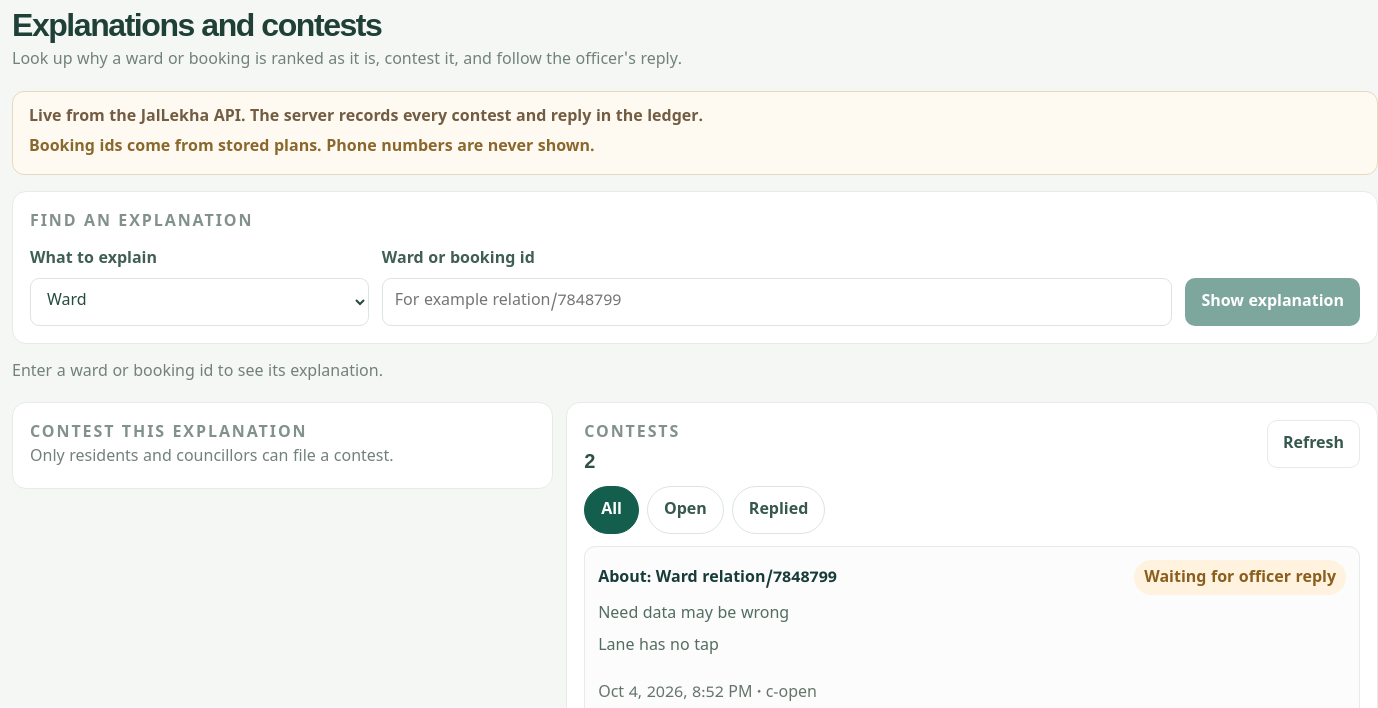
Test case: ExplainExperience (live) › lets the officer list, filter, open and reply with a required reason
Click the button "Open": (685, 510) [647, 486, 724, 534]
(page scrolled)
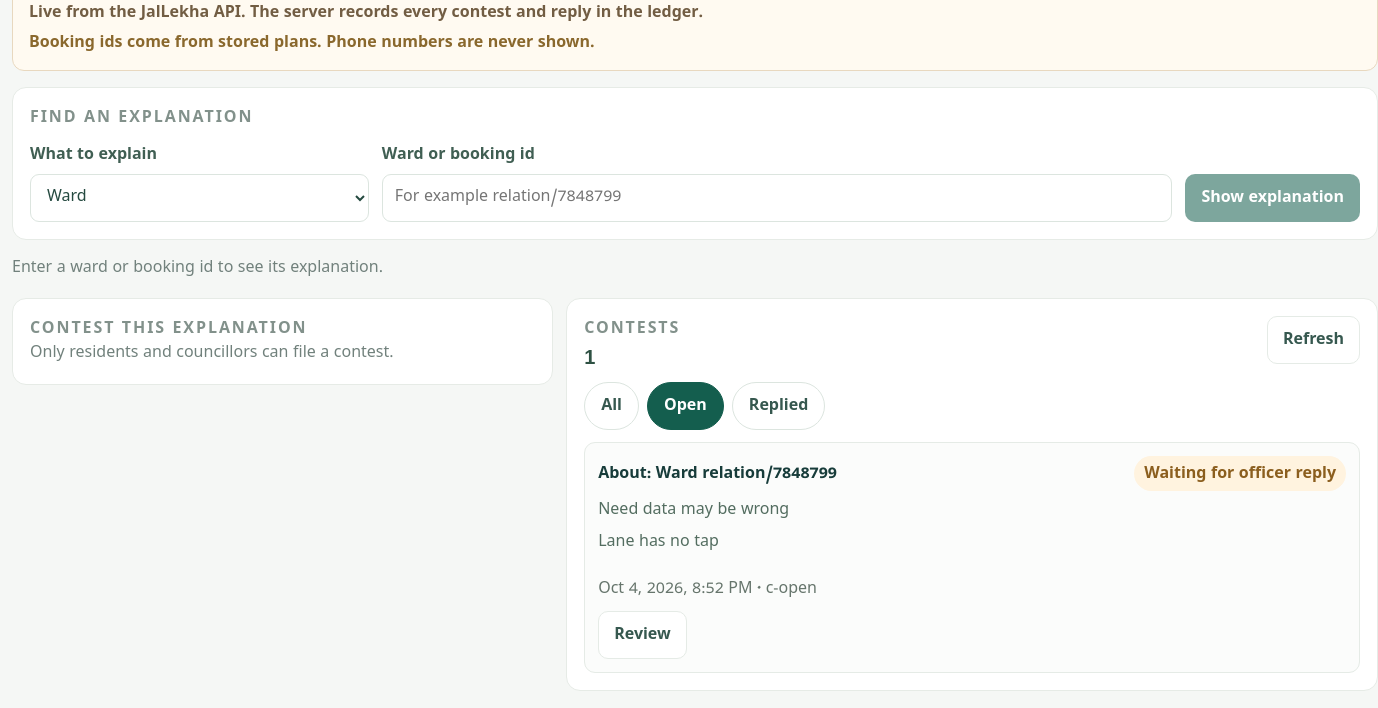
Expected: the list named "Contests" shows "Lane has no tap", [598, 532, 719, 554]
Result: the number of list items is 1 at [584, 442, 1360, 673]
Click the button with aria-label "Review c-open": (642, 635) [598, 611, 687, 659]
(page scrolled)
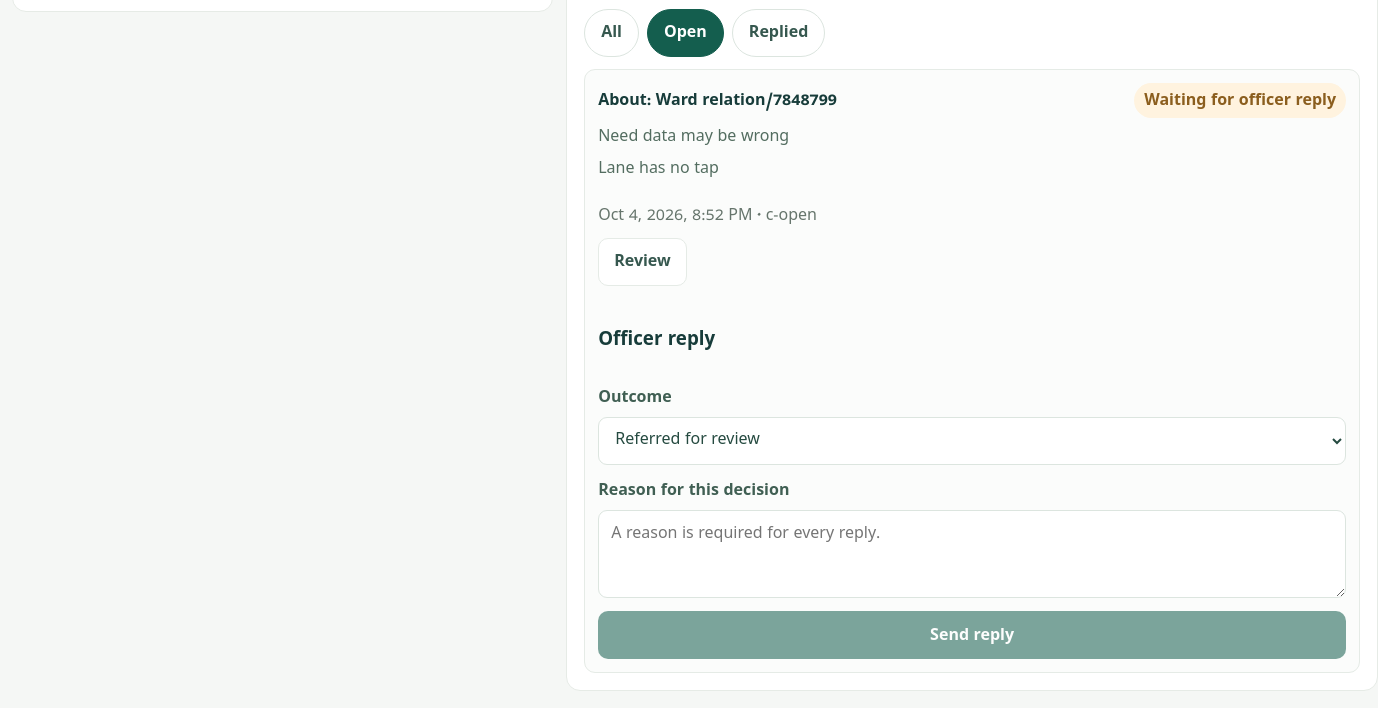
Result: the button "Send reply" is disabled at [598, 611, 1346, 659]
Select "Ranking stands" in the dropdown labelled "Outcome": (972, 441) [598, 417, 1346, 465]
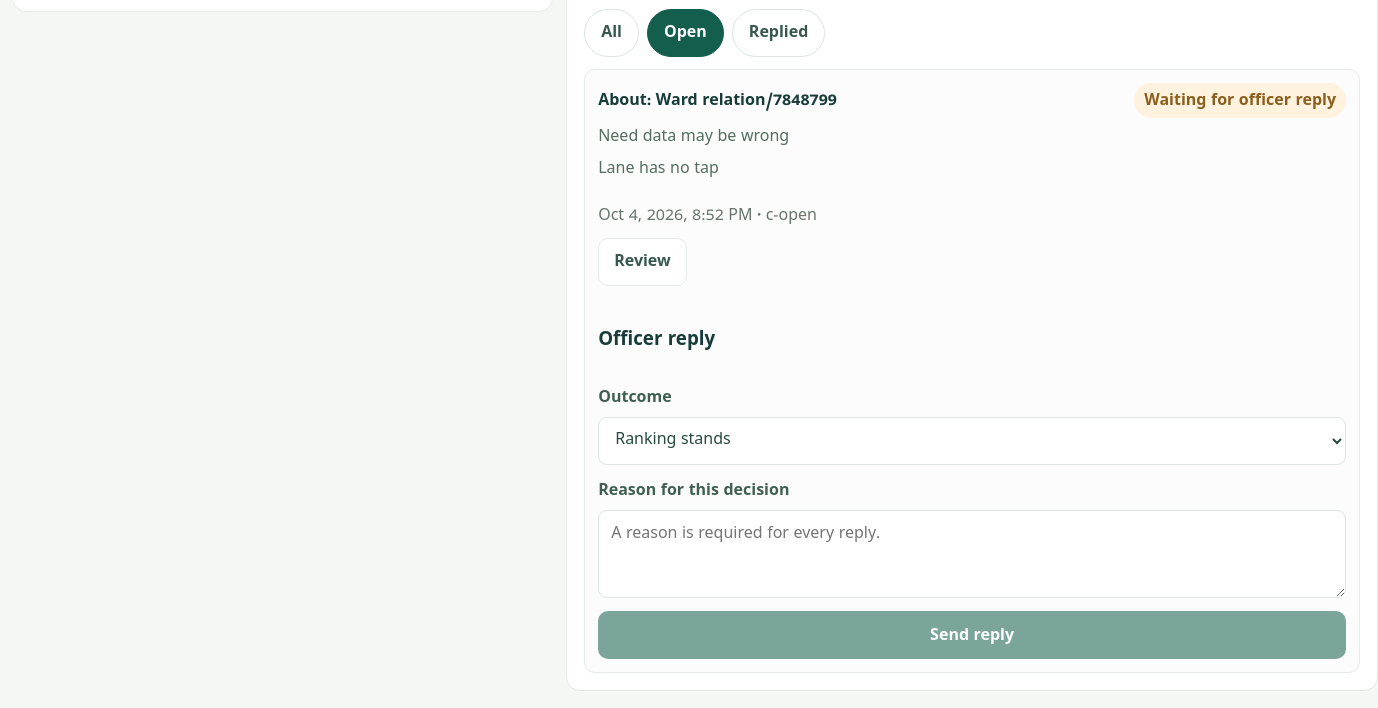
In the text box labelled "Reason for this decision": (972, 554) [598, 510, 1346, 598], type "Census figures checked; ranking is right."
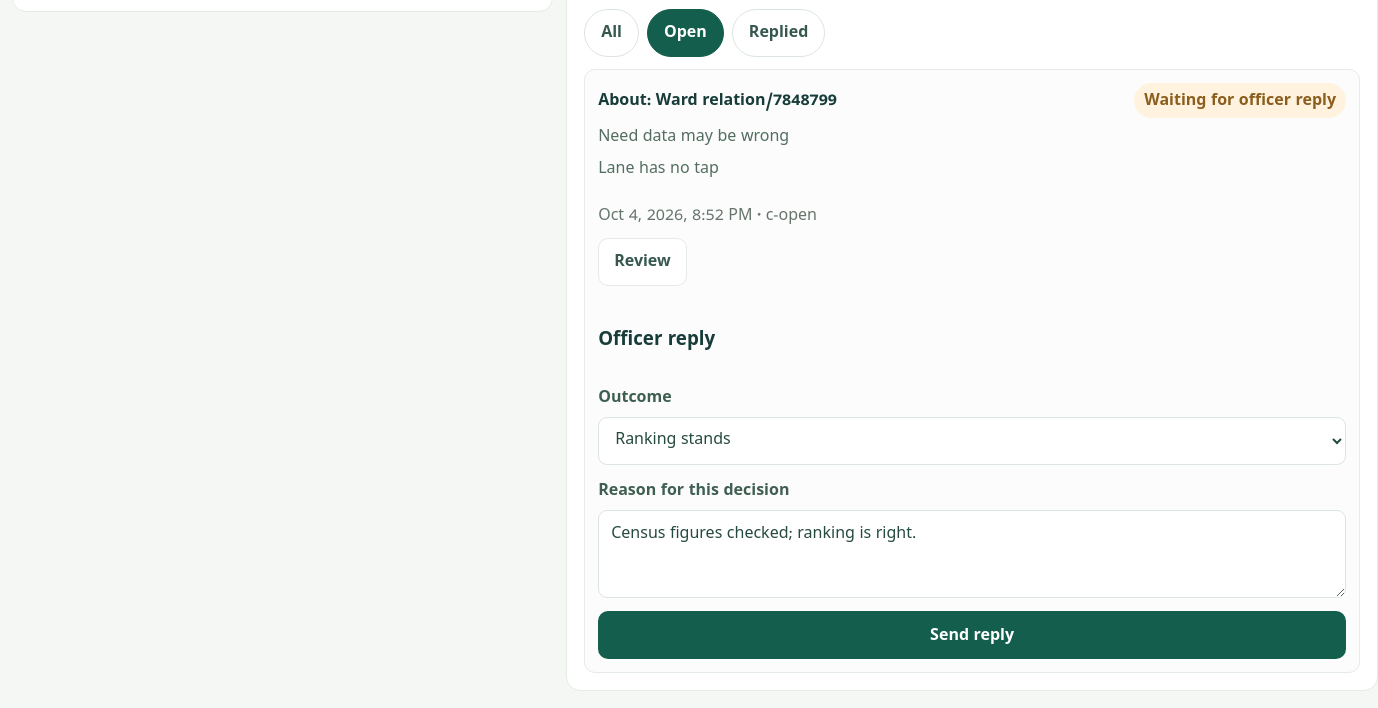
Result: the button "Send reply" is enabled
Click the button "Send reply": (972, 635) [598, 611, 1346, 659]
(page scrolled)
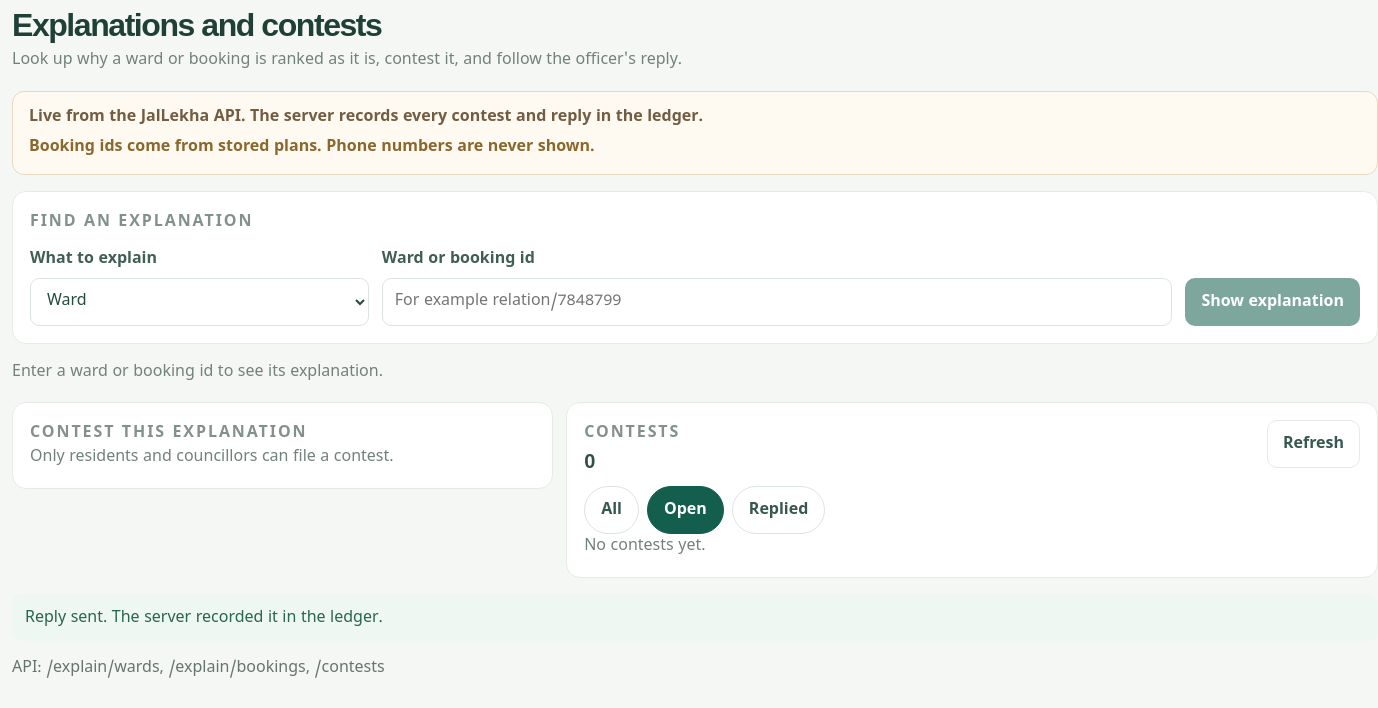
Result: the text "Reply sent. The server recorded it in the ledger." is shown at [12, 594, 1377, 641]
Click the button "Replied": (779, 510) [732, 486, 825, 534]
(page scrolled)
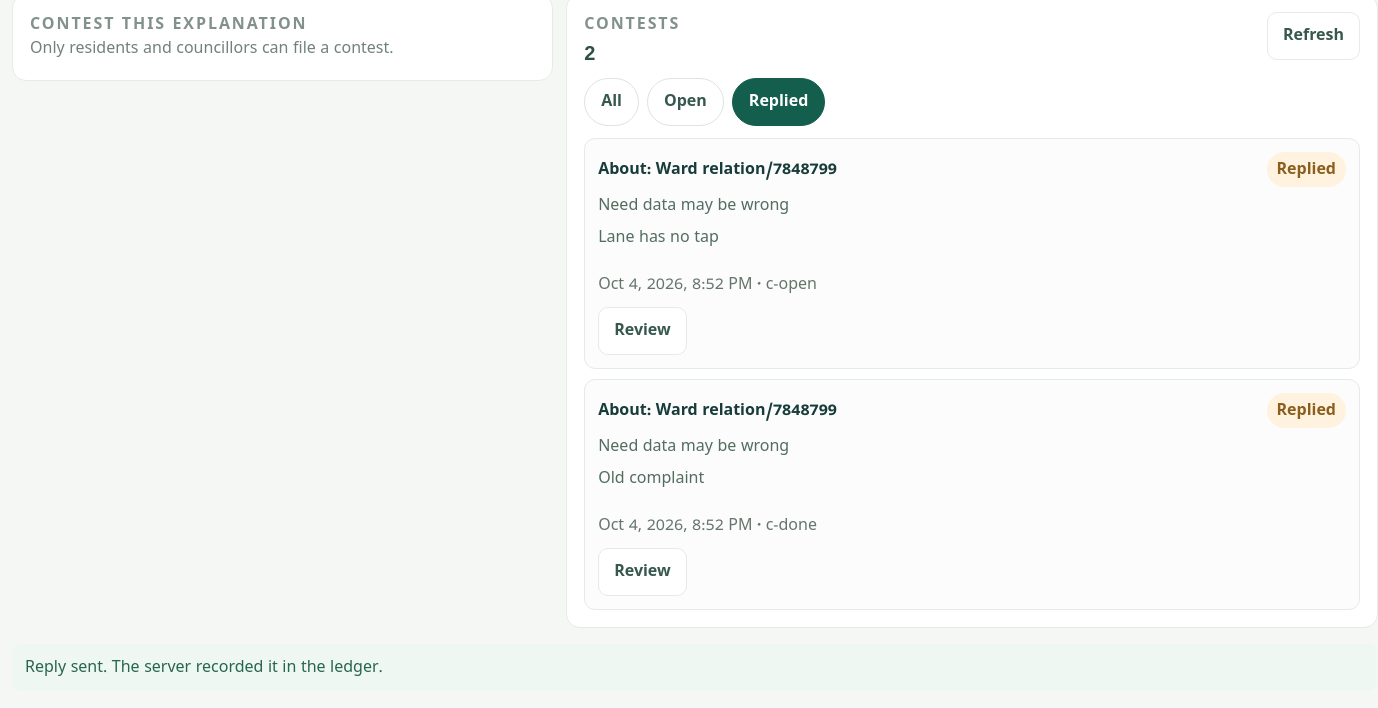
Result: the list named "Contests" shows "Lane has no tap" at [598, 228, 719, 250]
